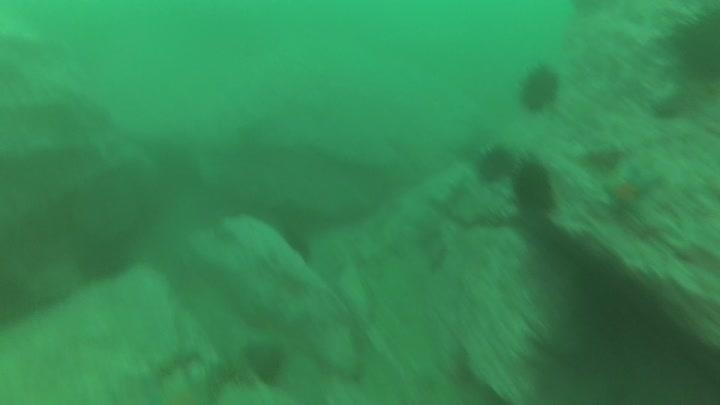echinus: (668, 4, 720, 87), (74, 234, 133, 284), (510, 158, 557, 216), (514, 62, 563, 115), (242, 339, 288, 387), (472, 143, 517, 186)
starfish: (601, 163, 663, 218)
